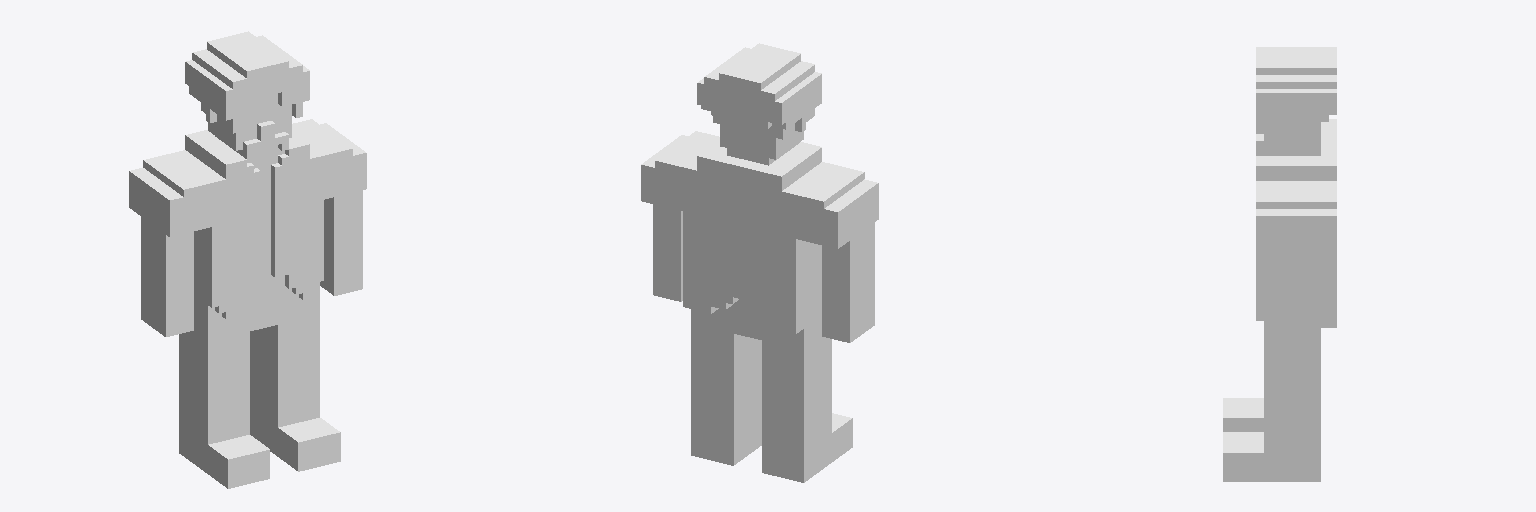
The model's file is uncle.obj.
3 renders of one model, left to right at view 1: azimuth 30°, elevation 25°; view 2: azimuth 150°, elevation 25°; view 3: azimuth 270°, elevation 25°, orthographic.
Bounding box in the file's own units: 28 × 54 × 14.